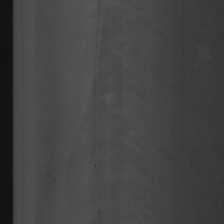inclusion: (91, 3, 104, 220)
